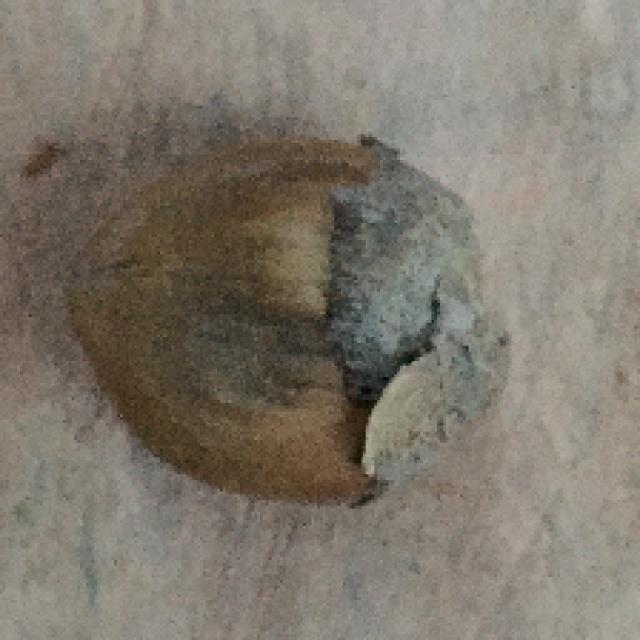DamagedHazelnut: (72, 137, 514, 504)
